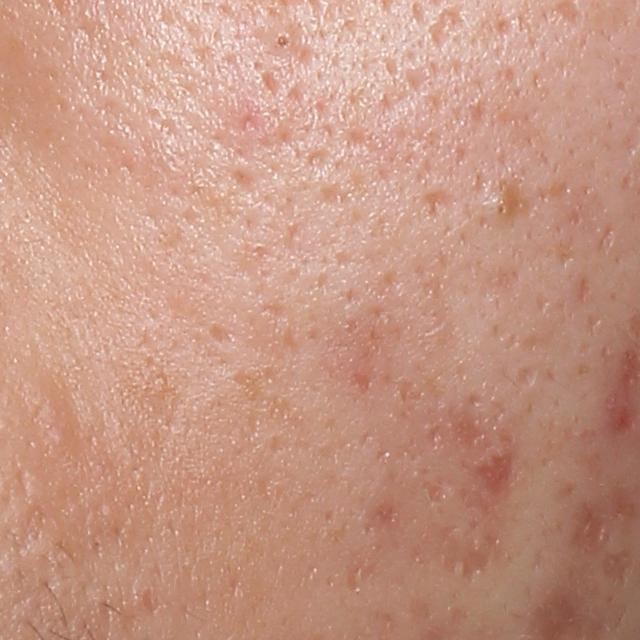atrophic_scar: (425, 3, 473, 55), (459, 535, 498, 585), (359, 498, 408, 533), (600, 549, 636, 590), (419, 189, 454, 222), (419, 480, 454, 505), (516, 363, 540, 392), (350, 369, 376, 395), (574, 270, 592, 306), (598, 224, 614, 257), (582, 312, 599, 336)
comedo: (265, 22, 298, 59), (490, 197, 514, 220)
